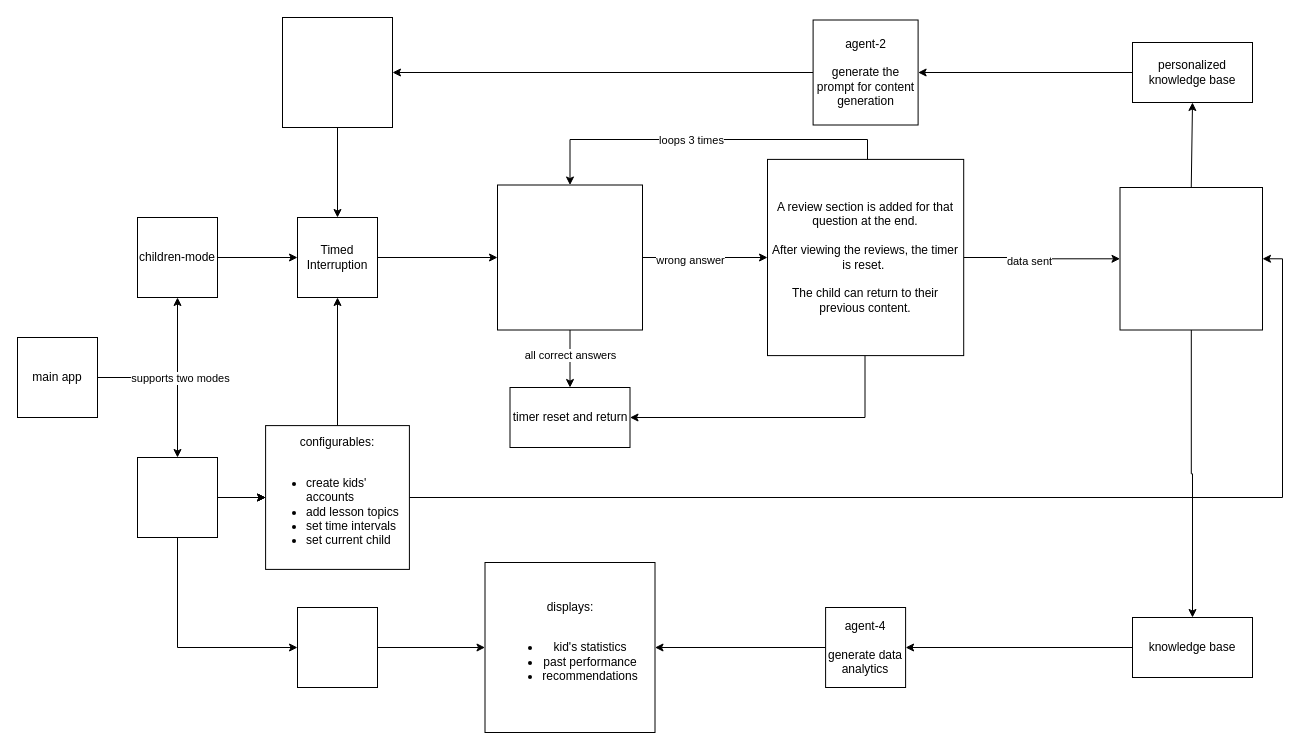
Image size: 1308x750. Some labels were removed from this diagram. Each missing label, with the centre of its shape:
"agent-1 generate: questions, video" goes at point 337,72.
"agent-3 decides what to send to agent-1 & agent-2" goes at point 1190,258.
"dashboard" goes at point 337,647.
"parents-mode" goes at point 177,497.
"Prompted to answer quizzes. Interruptions stop while the user is in the app" goes at point 569,257.
